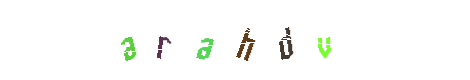A: (127, 0, 207, 80), (195, 0, 275, 80)
D: (205, 0, 285, 80)
H: (203, 0, 283, 80)
R: (195, 0, 275, 80)
V: (284, 0, 364, 80)
